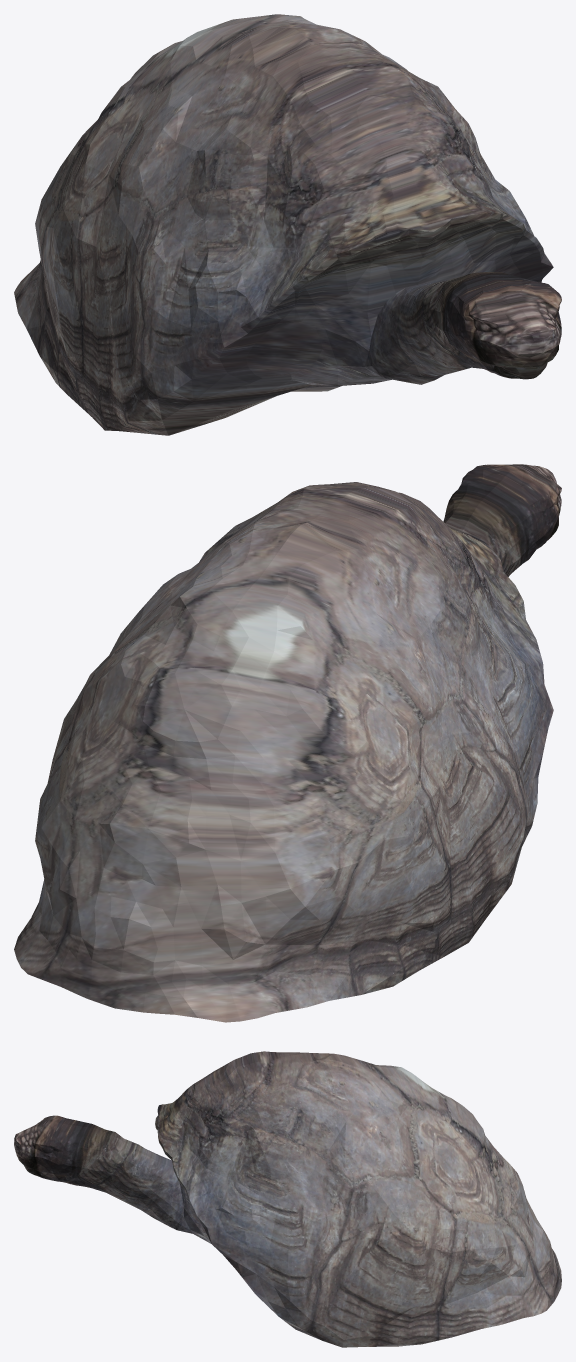
The model's file is Tortoise_Body_new.dae.
3 renders of one model, top to bottom at view 1: azimuth 30°, elevation 25°; view 2: azimuth 150°, elevation 25°; view 3: azimuth 270°, elevation 25°, orthographic. The views are drawn at different scales.
Parts seen in each view (by area): view 1: tortoise; view 2: tortoise; view 3: tortoise.
Boxes of the visible parts, box(x1,y1,x2,y2) form: tortoise: box(14, 14, 561, 435); tortoise: box(14, 464, 561, 1022); tortoise: box(14, 1051, 561, 1347).
Bounding box in the file's own units: 14.07 × 26.68 × 12.9.
5 materials, 5 textured.
